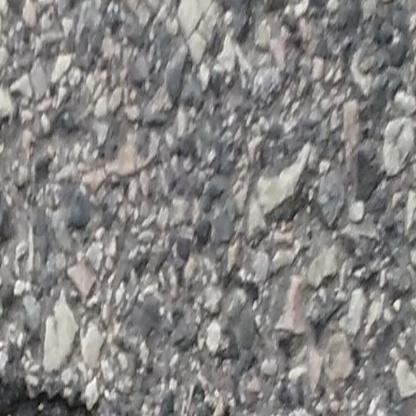Cracks: (0, 373, 113, 416), (214, 408, 243, 416)
